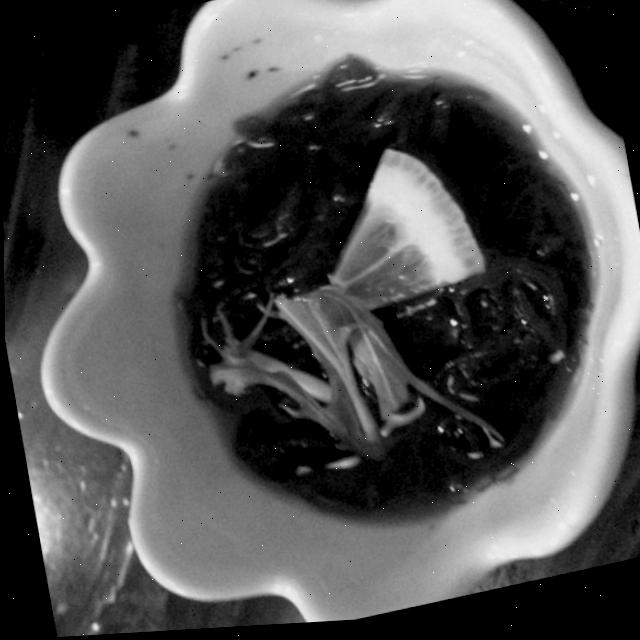蔬菜料理: (30, 0, 640, 637)
